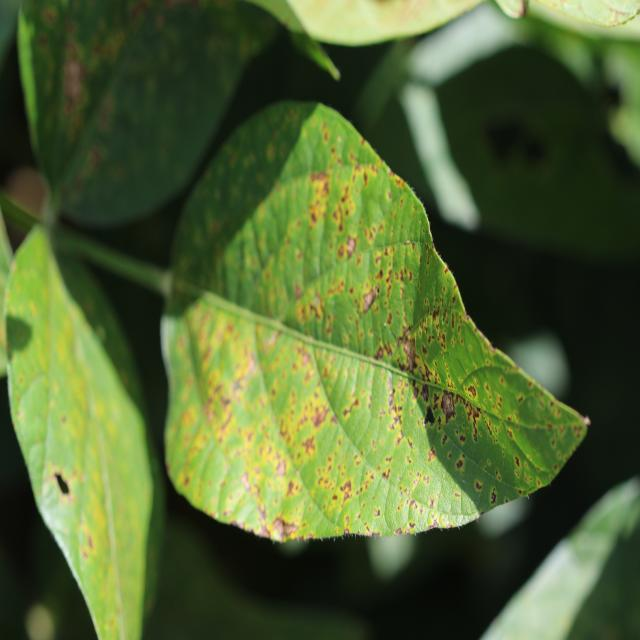Bacterial_Blight: (275, 345, 338, 463), (201, 337, 259, 441), (358, 241, 416, 331), (302, 164, 335, 234), (60, 47, 87, 121), (401, 468, 433, 504), (94, 92, 118, 137), (389, 404, 404, 431), (470, 407, 481, 437), (311, 170, 329, 186), (293, 283, 303, 300), (467, 385, 477, 399), (427, 448, 436, 463), (382, 468, 391, 480), (455, 459, 463, 470), (442, 434, 448, 446), (451, 294, 457, 305), (515, 456, 520, 468)
Soybean: (162, 101, 590, 545)
